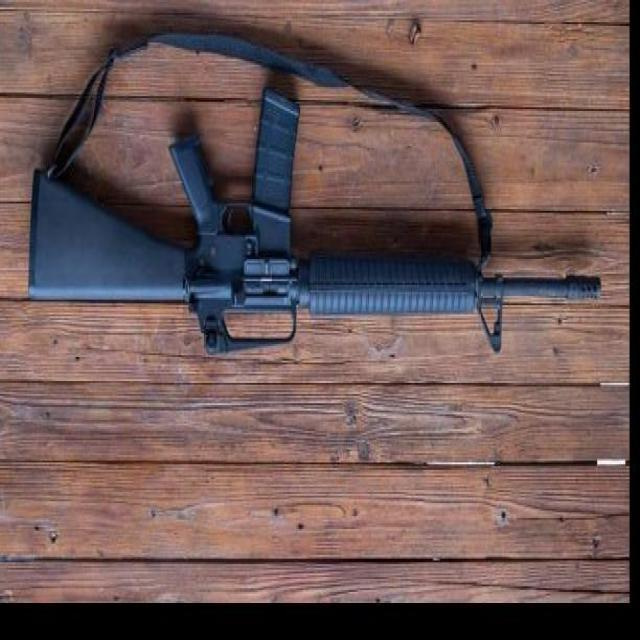weapon: (28, 87, 602, 354)
